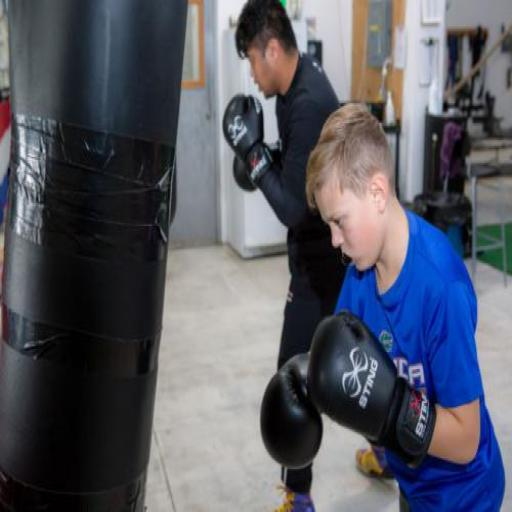boxing: (191, 4, 434, 512), (230, 114, 512, 512)
